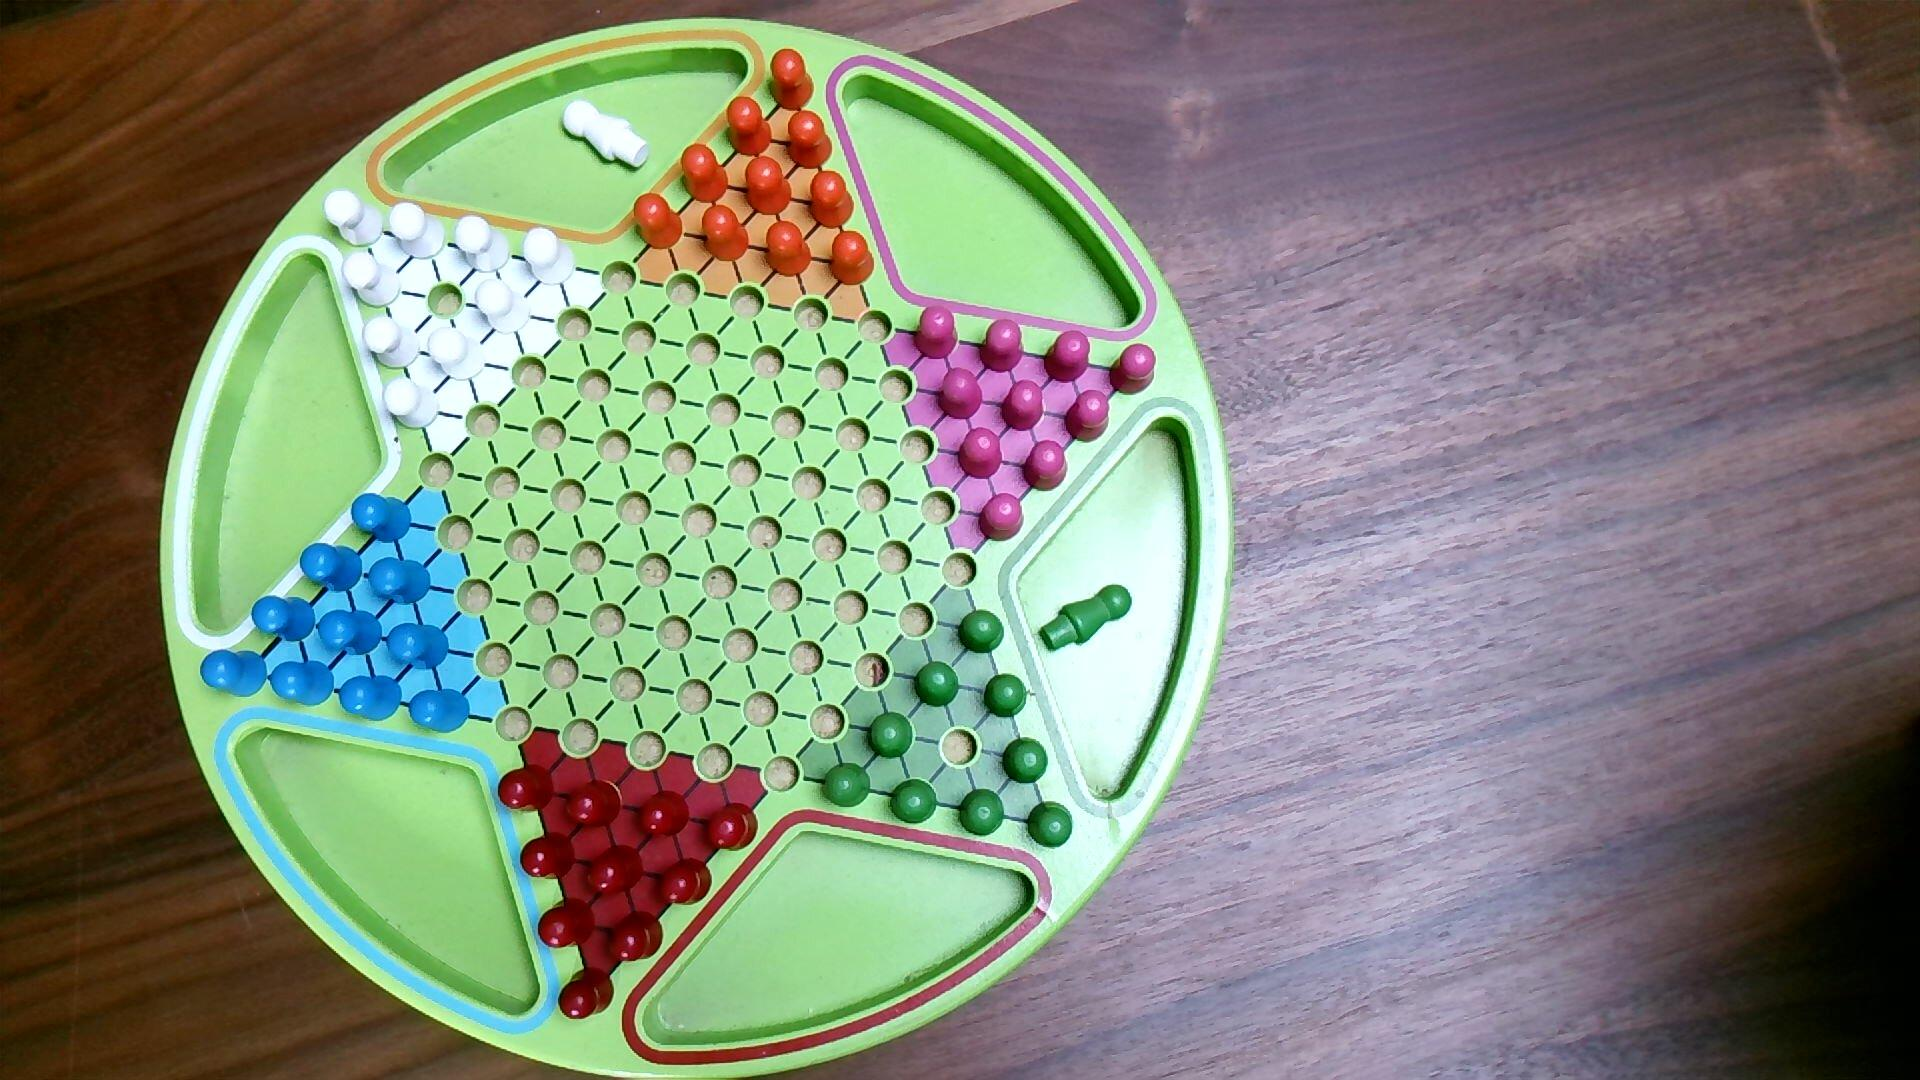B: (199, 647, 270, 699), (299, 541, 365, 595), (268, 659, 338, 709), (316, 608, 384, 659), (251, 595, 318, 645), (351, 492, 413, 546), (339, 673, 404, 723), (386, 622, 451, 673), (369, 556, 433, 607), (409, 688, 473, 736)
G: (910, 657, 963, 711), (887, 775, 942, 827), (1000, 735, 1051, 789), (820, 760, 873, 811), (956, 786, 1007, 839), (866, 709, 916, 762), (1025, 798, 1075, 851), (953, 608, 1007, 657), (982, 671, 1029, 721)
O: (785, 107, 836, 171), (727, 94, 775, 160), (633, 193, 686, 253), (807, 169, 857, 231), (745, 156, 795, 218), (680, 142, 731, 204), (702, 203, 750, 266), (825, 229, 877, 289), (764, 219, 814, 280), (770, 49, 818, 112)
R: (583, 841, 647, 902), (603, 906, 666, 967), (562, 774, 625, 833), (556, 964, 617, 1025), (535, 895, 597, 952), (496, 761, 558, 816), (700, 799, 762, 855), (518, 828, 579, 884), (654, 855, 715, 909), (634, 787, 694, 841)
R2: (1040, 328, 1093, 386), (913, 303, 963, 363), (977, 316, 1027, 375), (1106, 342, 1158, 397), (936, 367, 986, 423), (976, 491, 1027, 545), (955, 426, 1004, 483), (1021, 438, 1069, 495), (1063, 389, 1112, 444), (1000, 378, 1047, 434)
W: (386, 199, 450, 262), (320, 189, 386, 249), (473, 276, 534, 338), (342, 249, 404, 310), (454, 214, 514, 276), (522, 224, 579, 289), (363, 314, 425, 371), (382, 376, 443, 433), (427, 326, 488, 382)
